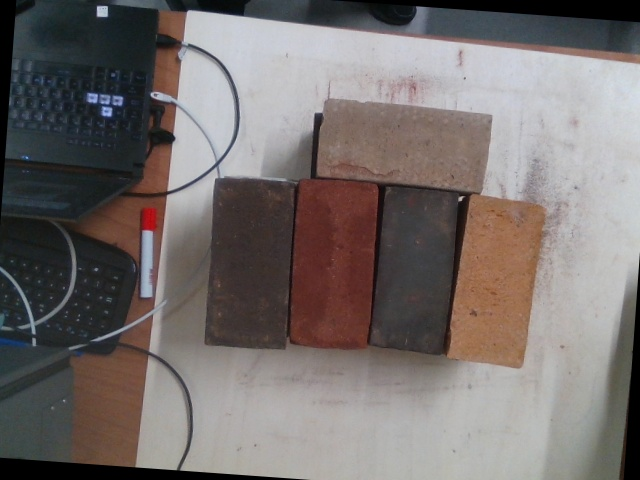brick: (446, 196, 547, 368), (319, 100, 491, 190), (206, 181, 294, 349), (292, 181, 377, 346), (372, 191, 457, 354)
